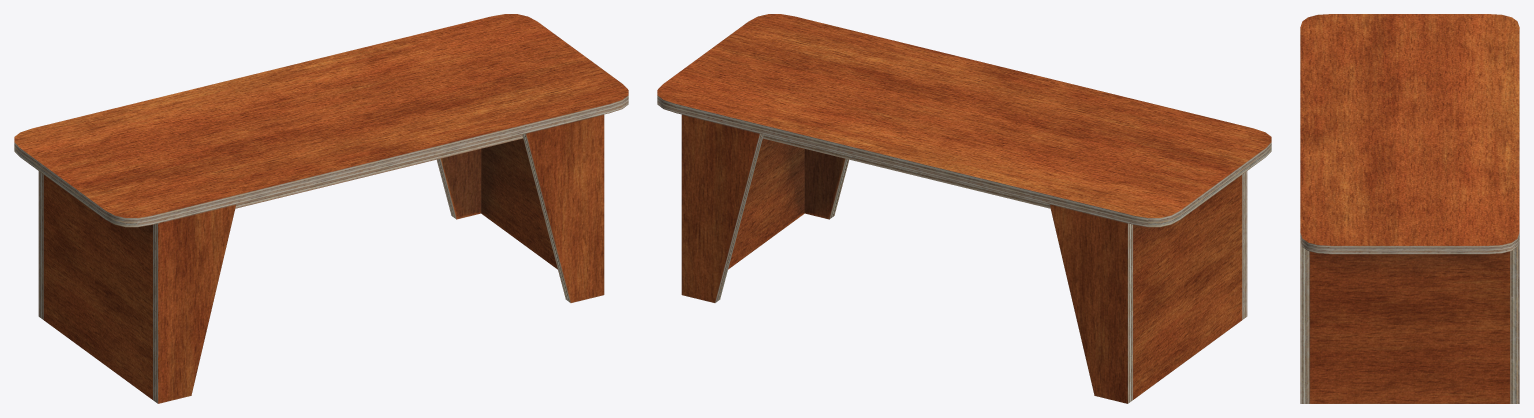
The model's file is plywood_coffee_table.glb.
3 renders of one model, left to right at view 1: azimuth 30°, elevation 25°; view 2: azimuth 150°, elevation 25°; view 3: azimuth 270°, elevation 25°, orthographic. The views are drawn at different scales.
Parts seen in each view (by area): view 1: Object_2; view 2: Object_2; view 3: Object_2.
Boxes of the visible parts, bbox=[...] form: Object_2: bbox=[14, 14, 628, 403]; Object_2: bbox=[657, 14, 1271, 403]; Object_2: bbox=[1300, 14, 1519, 403].
Size of the model in its own units: 118 by 41.37 by 47.18.
Materials: 1 (1 with a texture image).
